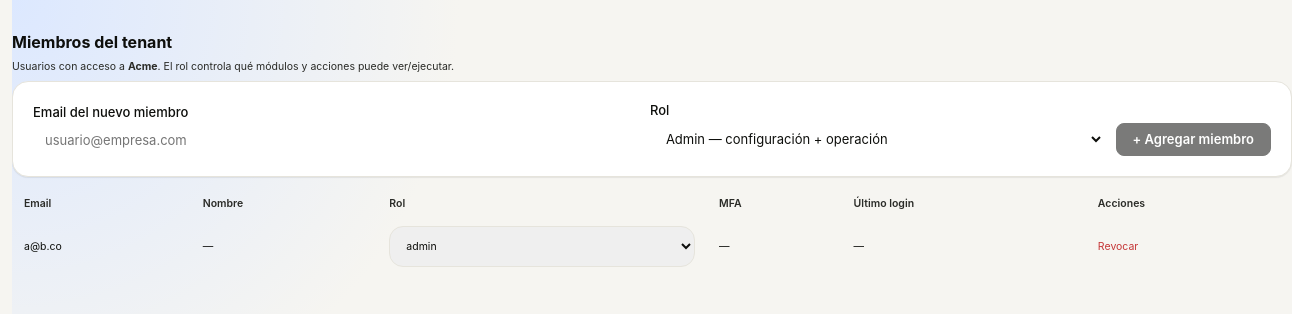
<TenantMembersPanel/> › muestra error si cambio de rol falla
Check: the table with test id "members-table" is shown, box [12,189,1291,275]
Select "viewer" in the dropdown with test id "member-role-a@b.co" at (542, 246), box [389,226,695,267]
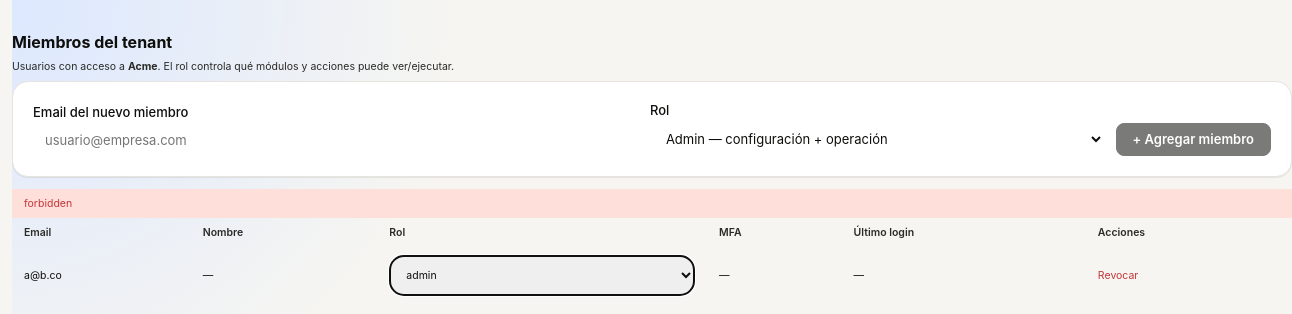
Check: the message reads "forbidden", box [24,197,72,210]
